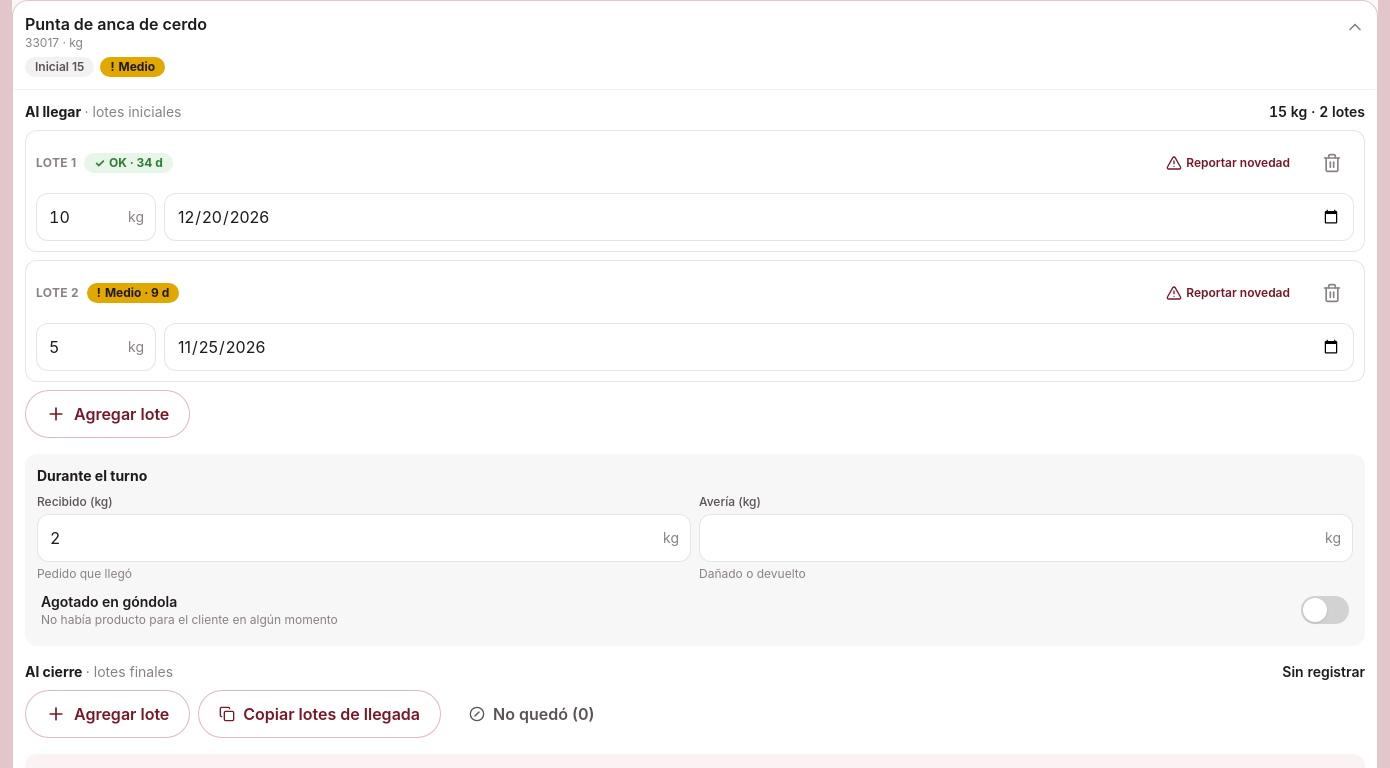
Test: Editor de lotes › copia los lotes de llegada al cierre y calcula la venta en vivo
Later steps or results of the test are not shown.
Click the button "Copiar lotes de llegada" at (320, 714), box left=198, top=690, right=441, bottom=738
(page scrolled)
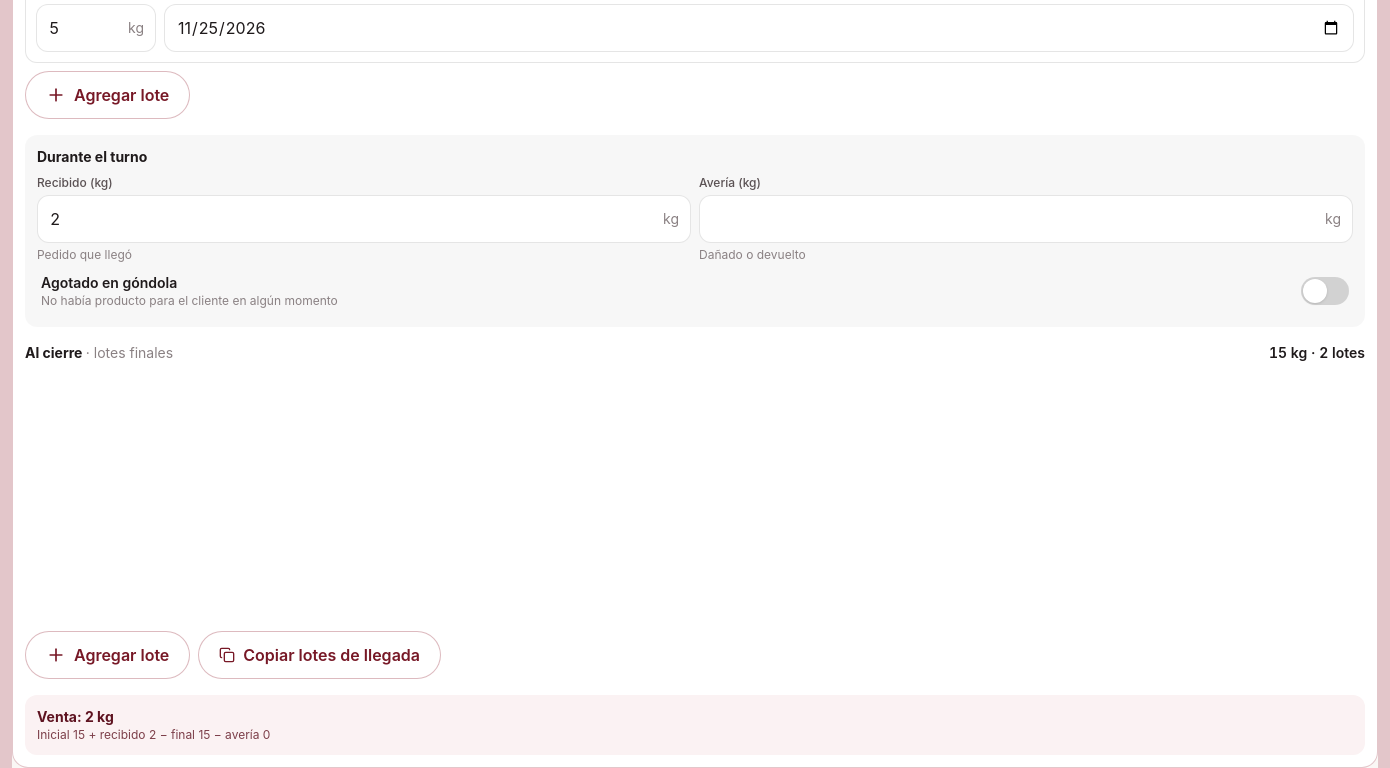
Expected: the text with test id "venta-en-vivo" reads "Venta: 2 kg", left=37, top=708, right=114, bottom=725
